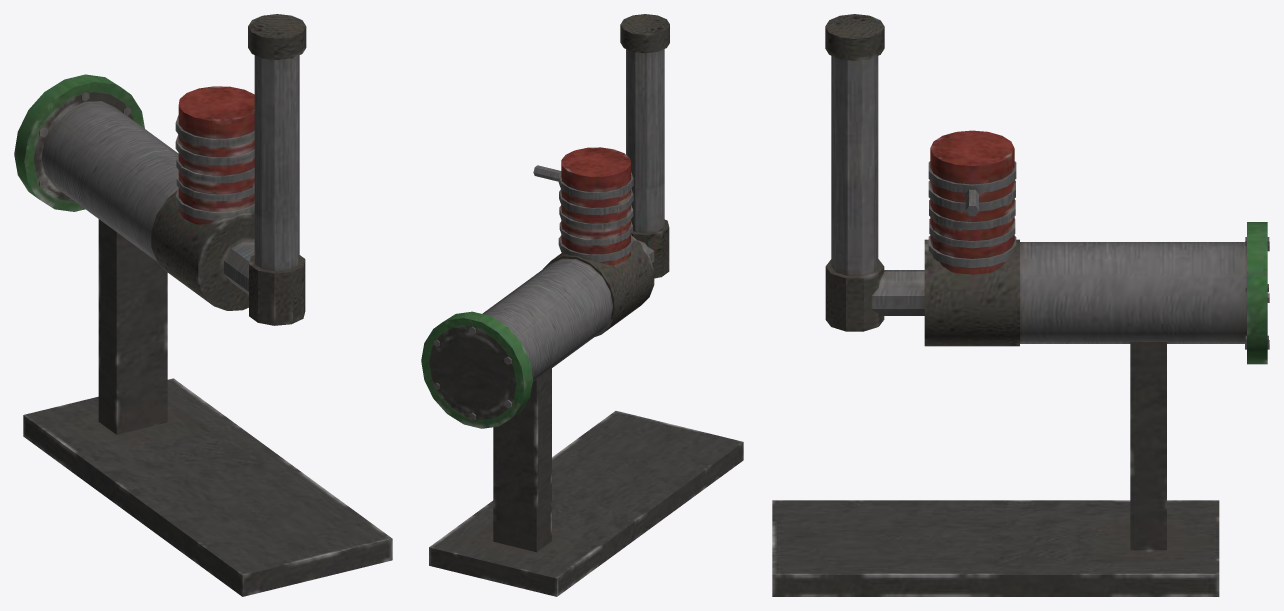
The model's file is feValveRelief.glb.
3 renders of one model, left to right at view 1: azimuth 30°, elevation 25°; view 2: azimuth 150°, elevation 25°; view 3: azimuth 270°, elevation 25°, orthographic. The views are drawn at different scales.
Visible parts, largest first — view 1: feValveRelief_Base; view 2: feValveRelief_Base; view 3: feValveRelief_Base.
Boxes of the visible parts, x1,y1,x2,y2 form: feValveRelief_Base: [14, 14, 392, 596]; feValveRelief_Base: [421, 14, 743, 596]; feValveRelief_Base: [772, 14, 1269, 596].
Size of the model in its own units: 0.3012 by 1 by 0.8466.
Materials: 1 (1 with a texture image).
